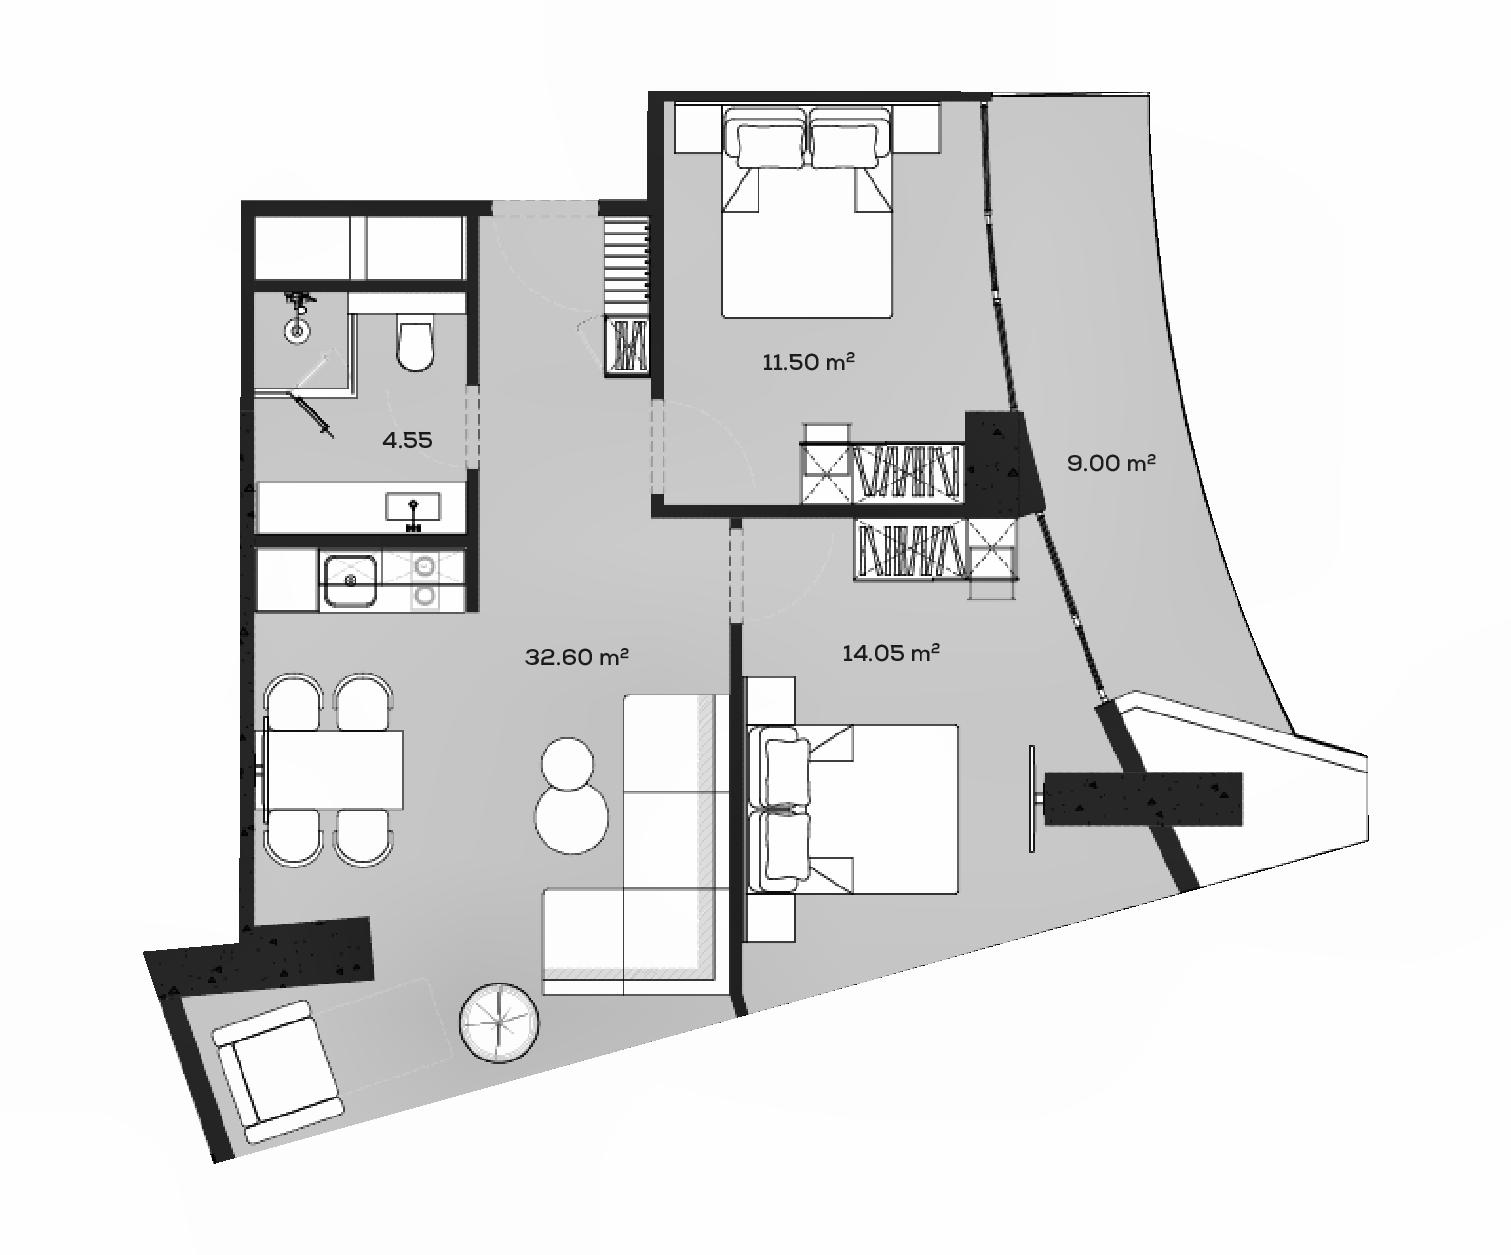door: (282, 383, 360, 446), (722, 521, 754, 633), (457, 379, 492, 474), (645, 395, 671, 501)
